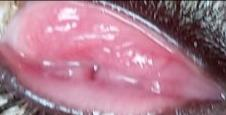eye_membrane: (0, 1, 220, 111)
